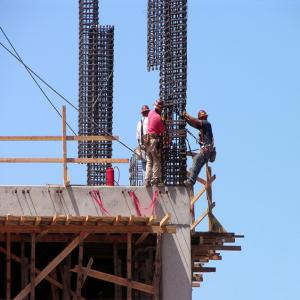red: (153, 99, 166, 116), (198, 110, 210, 126), (140, 105, 151, 120)
